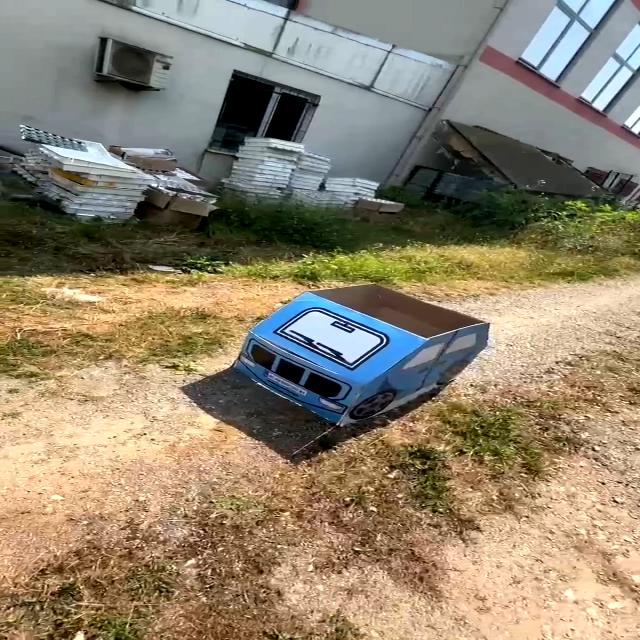blue_car: (210, 275, 513, 437)
